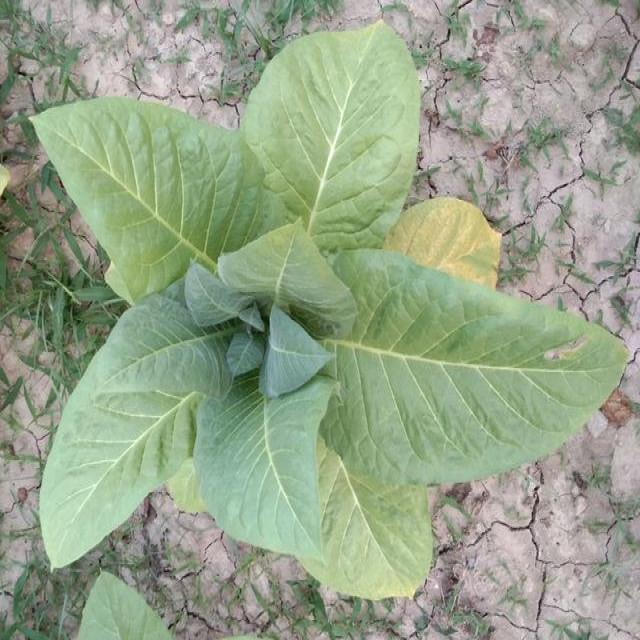crop: (37, 23, 632, 600)
